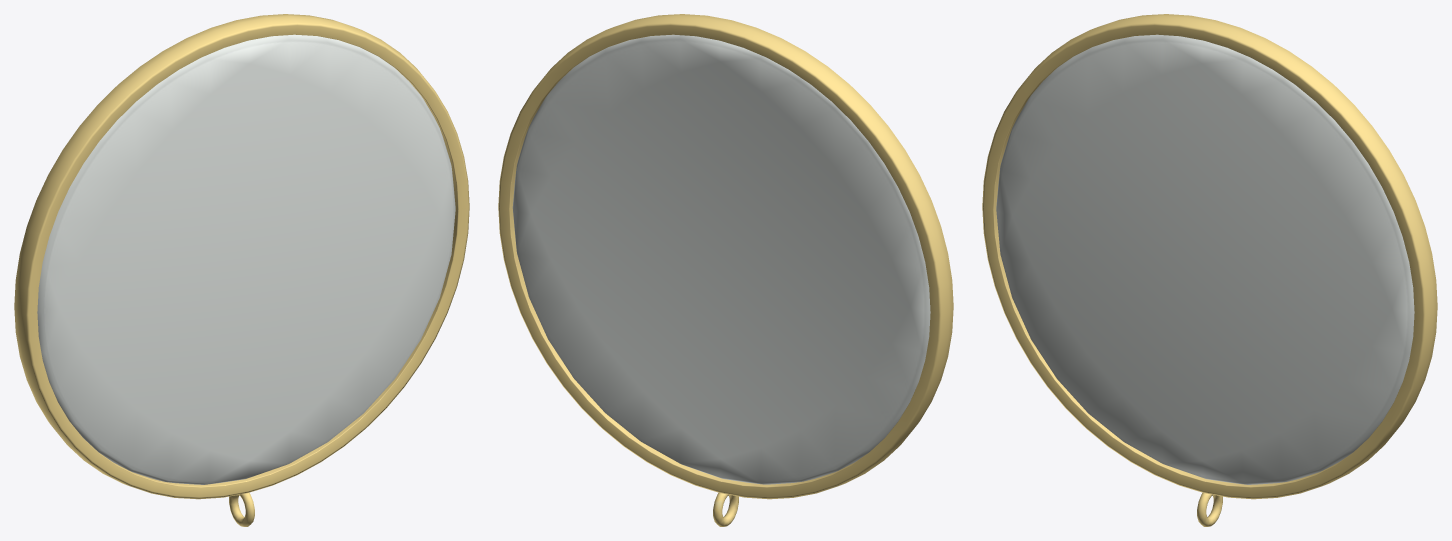
Rendered from monocle.glb.
3 renders of one model, left to right at view 1: azimuth 30°, elevation 25°; view 2: azimuth 150°, elevation 25°; view 3: azimuth 330°, elevation 25°, orthographic.
Visible parts, largest first — view 1: monocle; view 2: monocle; view 3: monocle.
Boxes of the visible parts, x1,y1,x2,y2 form: monocle: (14,14,469,526); monocle: (498,14,953,526); monocle: (982,14,1437,526).
Bounding box in the file's own units: 0.034 × 0.0366 × 0.003.
Materials: 2 (2 with a texture image).
